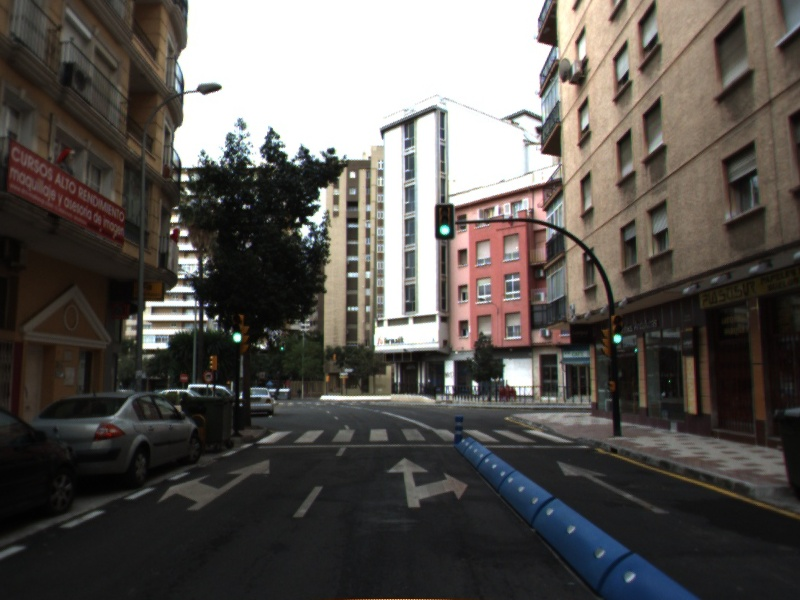STRAIGHT: (554, 458, 673, 516)
STRAIGHT_LEFT: (155, 457, 273, 512)
STRAIGHT_RIGHT: (384, 454, 471, 510)
